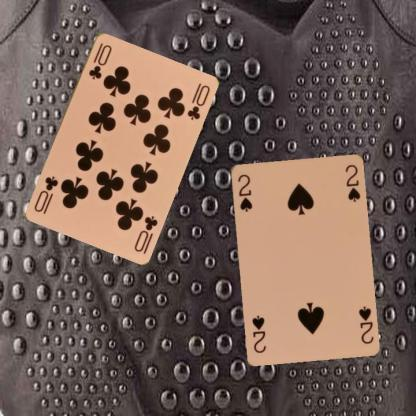10c: (86, 40, 114, 81), (131, 213, 159, 253)
2s: (235, 171, 254, 213), (356, 303, 374, 345)
